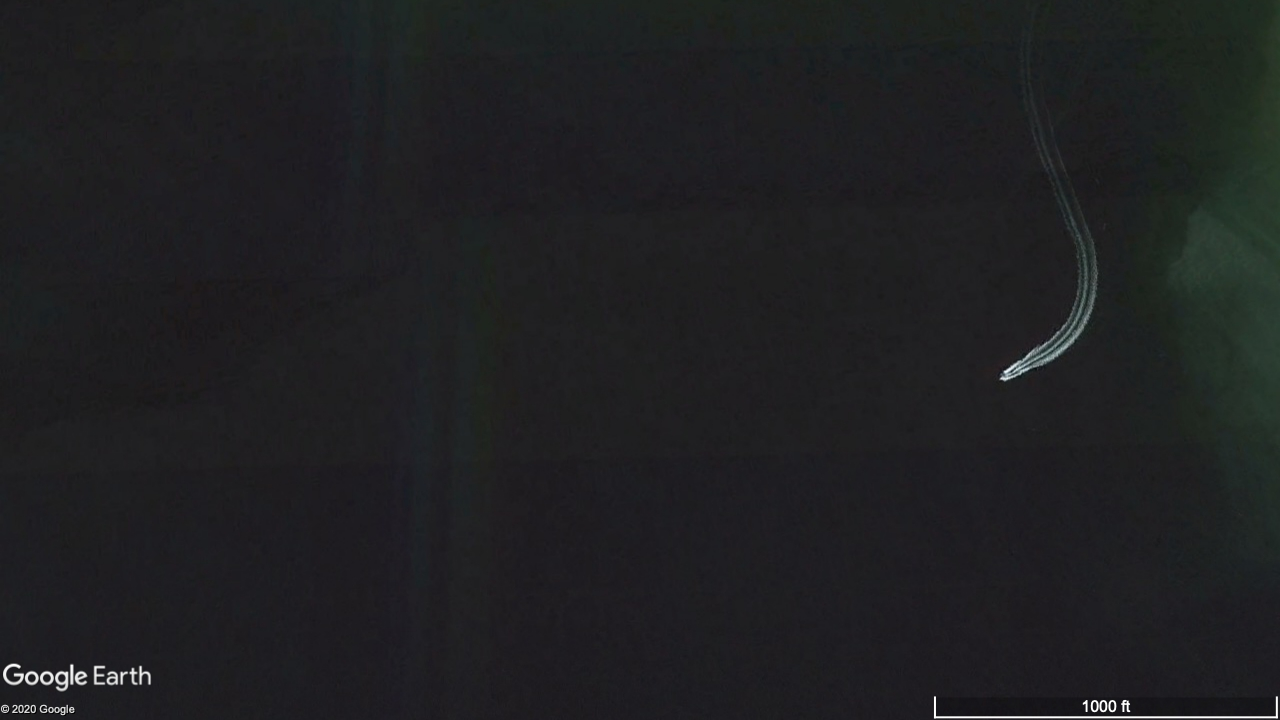boat: (999, 371, 1010, 381)
